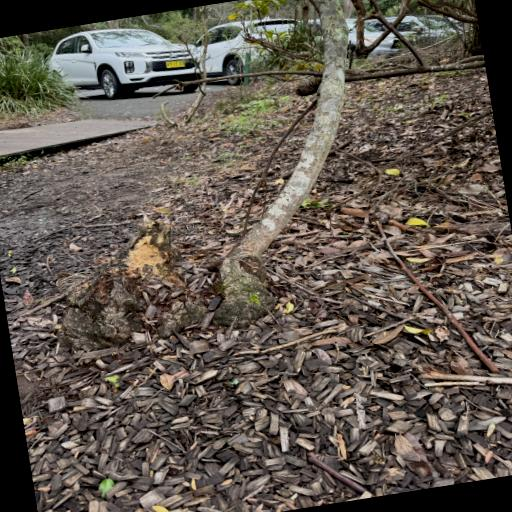tree root: (60, 0, 347, 349)
